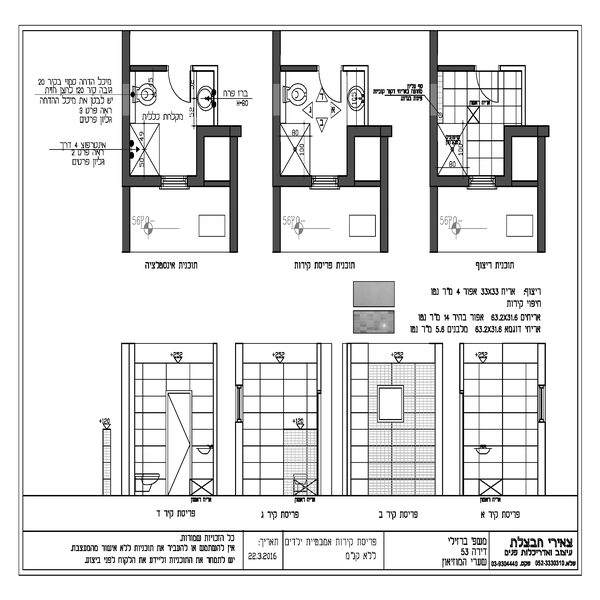door: (312, 65, 348, 109), (477, 66, 505, 104), (169, 66, 193, 104)
wall: (267, 33, 289, 254), (116, 32, 137, 261), (530, 128, 554, 250), (229, 128, 248, 257), (430, 31, 438, 246), (497, 121, 517, 194), (283, 54, 337, 80), (381, 134, 391, 255), (344, 124, 402, 143), (507, 118, 557, 140), (192, 127, 208, 194), (126, 59, 167, 84), (119, 169, 160, 192), (346, 120, 356, 195), (434, 60, 475, 77), (437, 174, 475, 192)
window: (307, 165, 341, 194), (466, 168, 495, 195), (160, 172, 192, 194)
